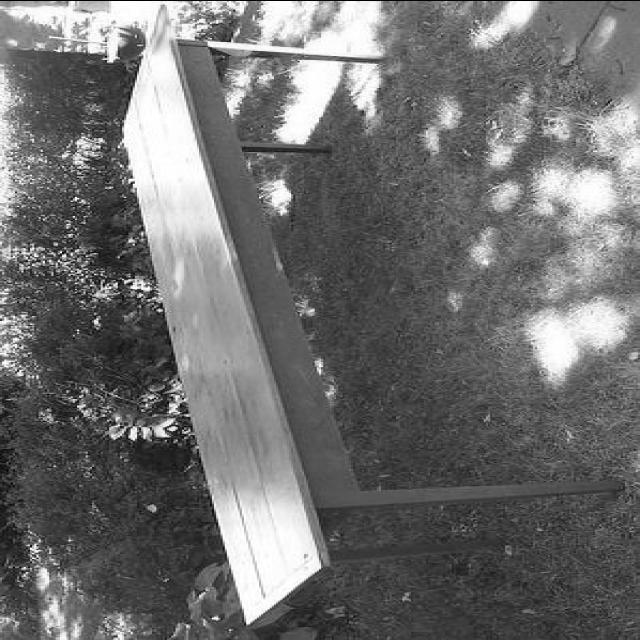table: (118, 6, 616, 622)
